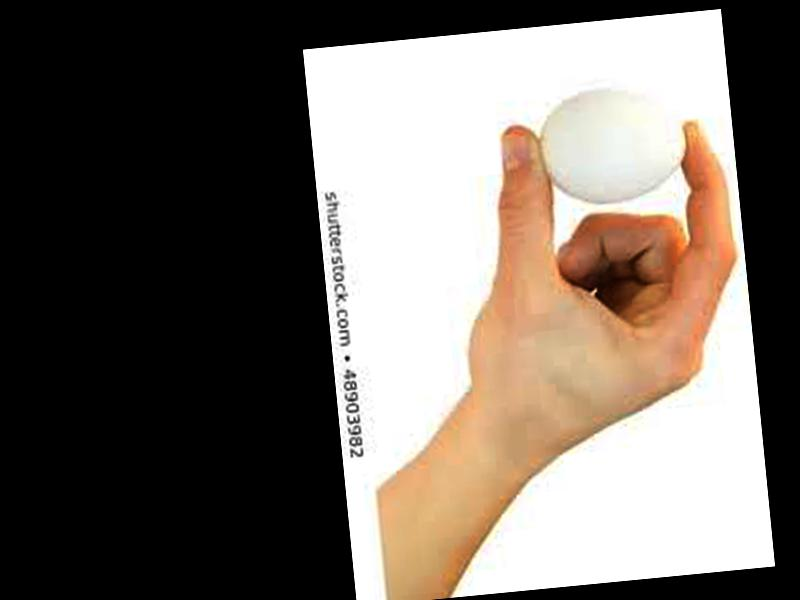Eggs: (534, 85, 690, 210)
